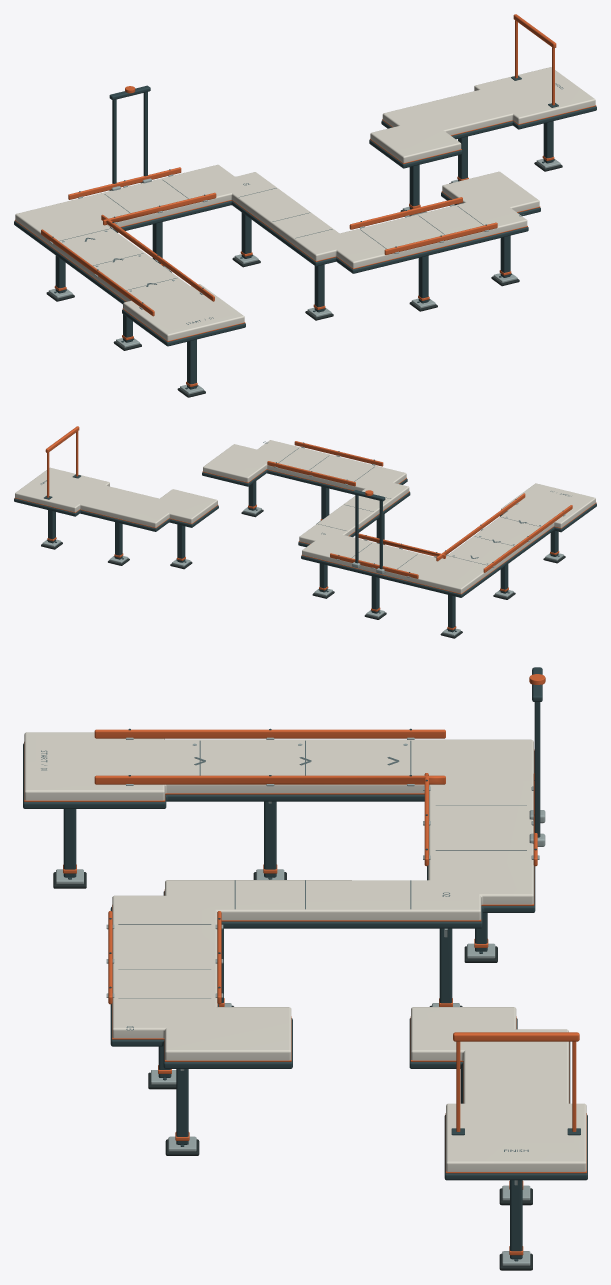
Rendered from track-round-02.glb.
3 views of the same model, one above another, from view 1: azimuth 30°, elevation 25°; view 2: azimuth 150°, elevation 25°; view 3: azimuth 270°, elevation 25° (orthographic). The views are drawn at different scales.
Parts seen in each view (by area): view 1: TrackStatic; view 2: TrackStatic; view 3: TrackStatic.
Part boxes in pixels (bbox=[...]): TrackStatic: bbox=[14, 14, 596, 397]; TrackStatic: bbox=[14, 426, 596, 638]; TrackStatic: bbox=[23, 667, 587, 1270].
Bounding box in the file's own units: 29.08 × 8.54 × 16.08.
